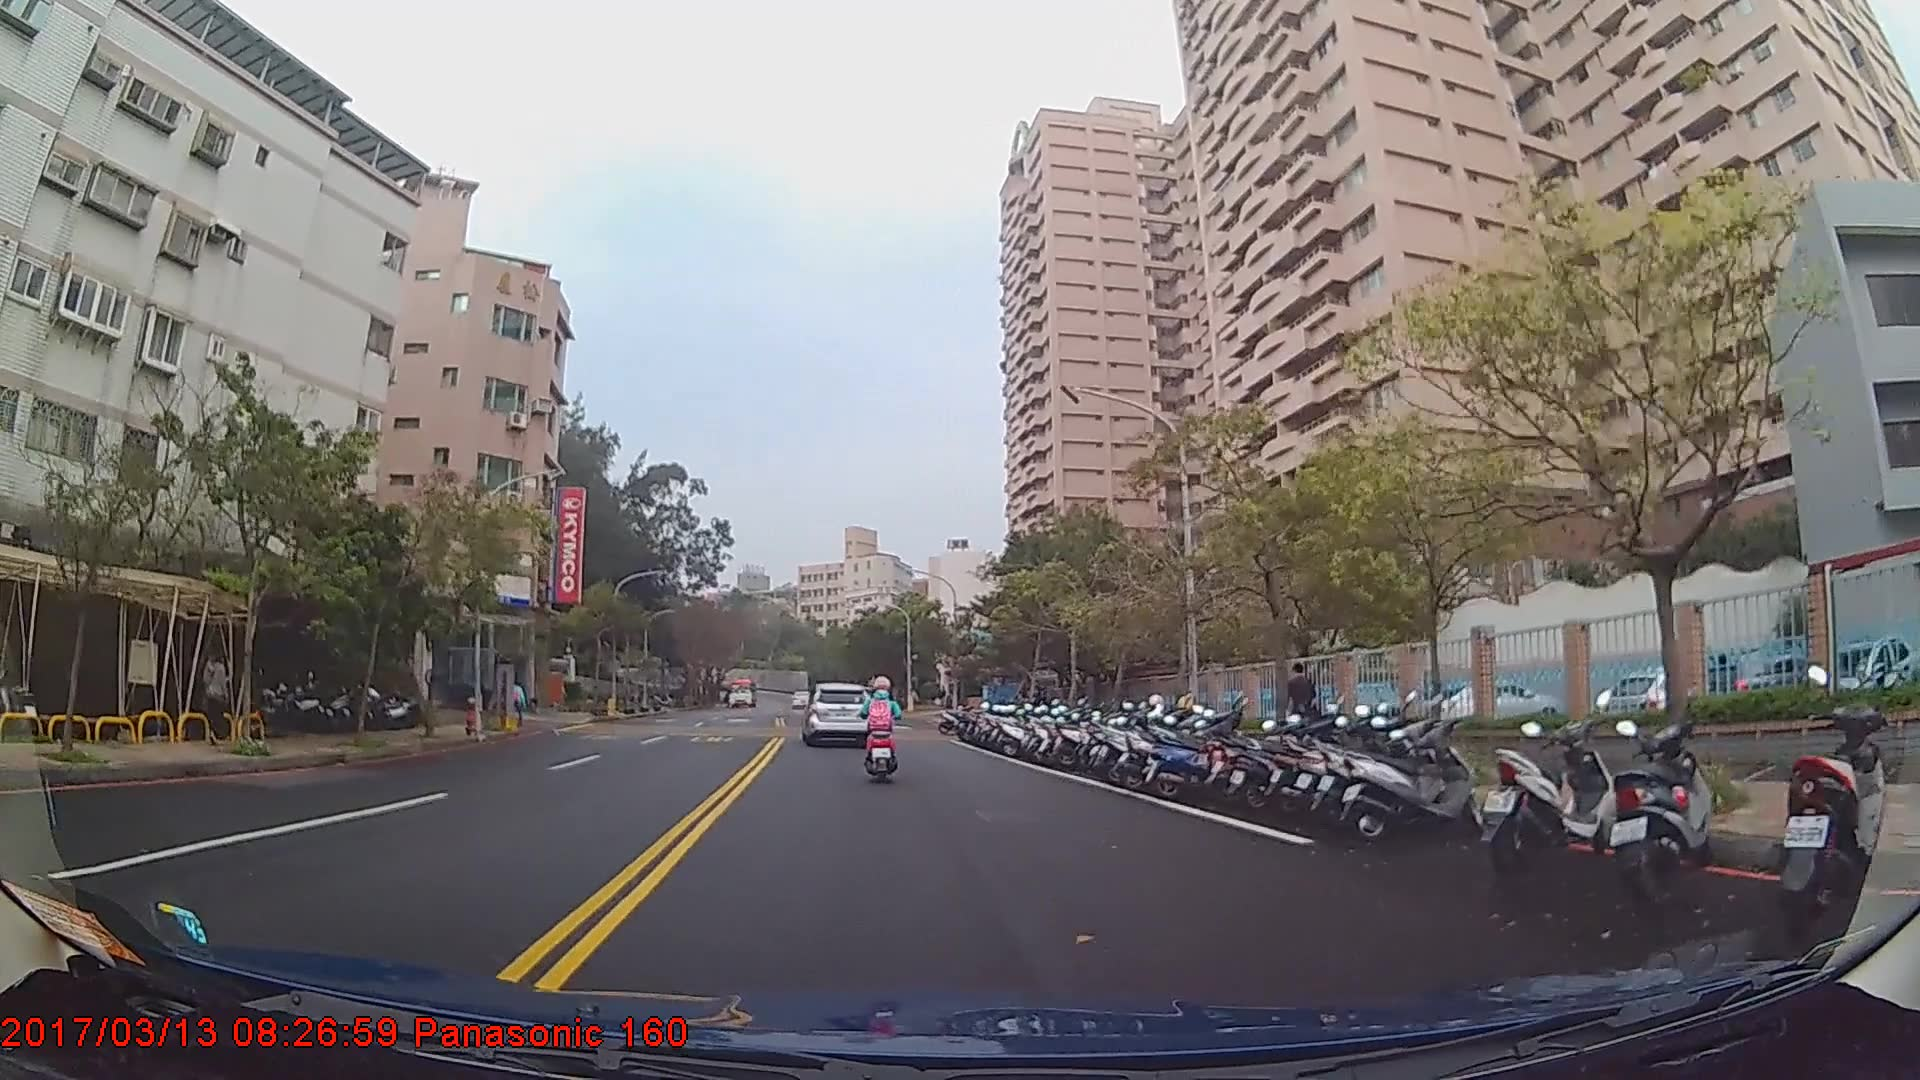pedestrian: (1280, 665, 1321, 761), (200, 646, 228, 746)
rider: (861, 677, 904, 786)
vehicle: (801, 680, 872, 747), (723, 676, 757, 709)
